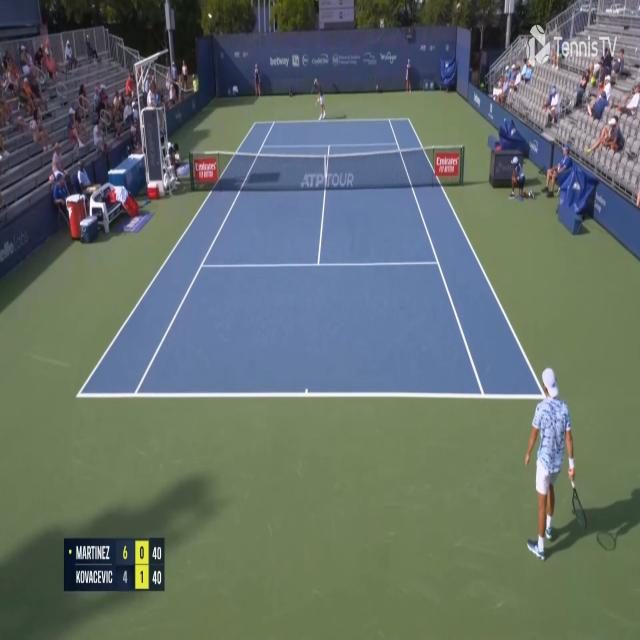tennis-player: (522, 361, 590, 562), (311, 75, 327, 122)
